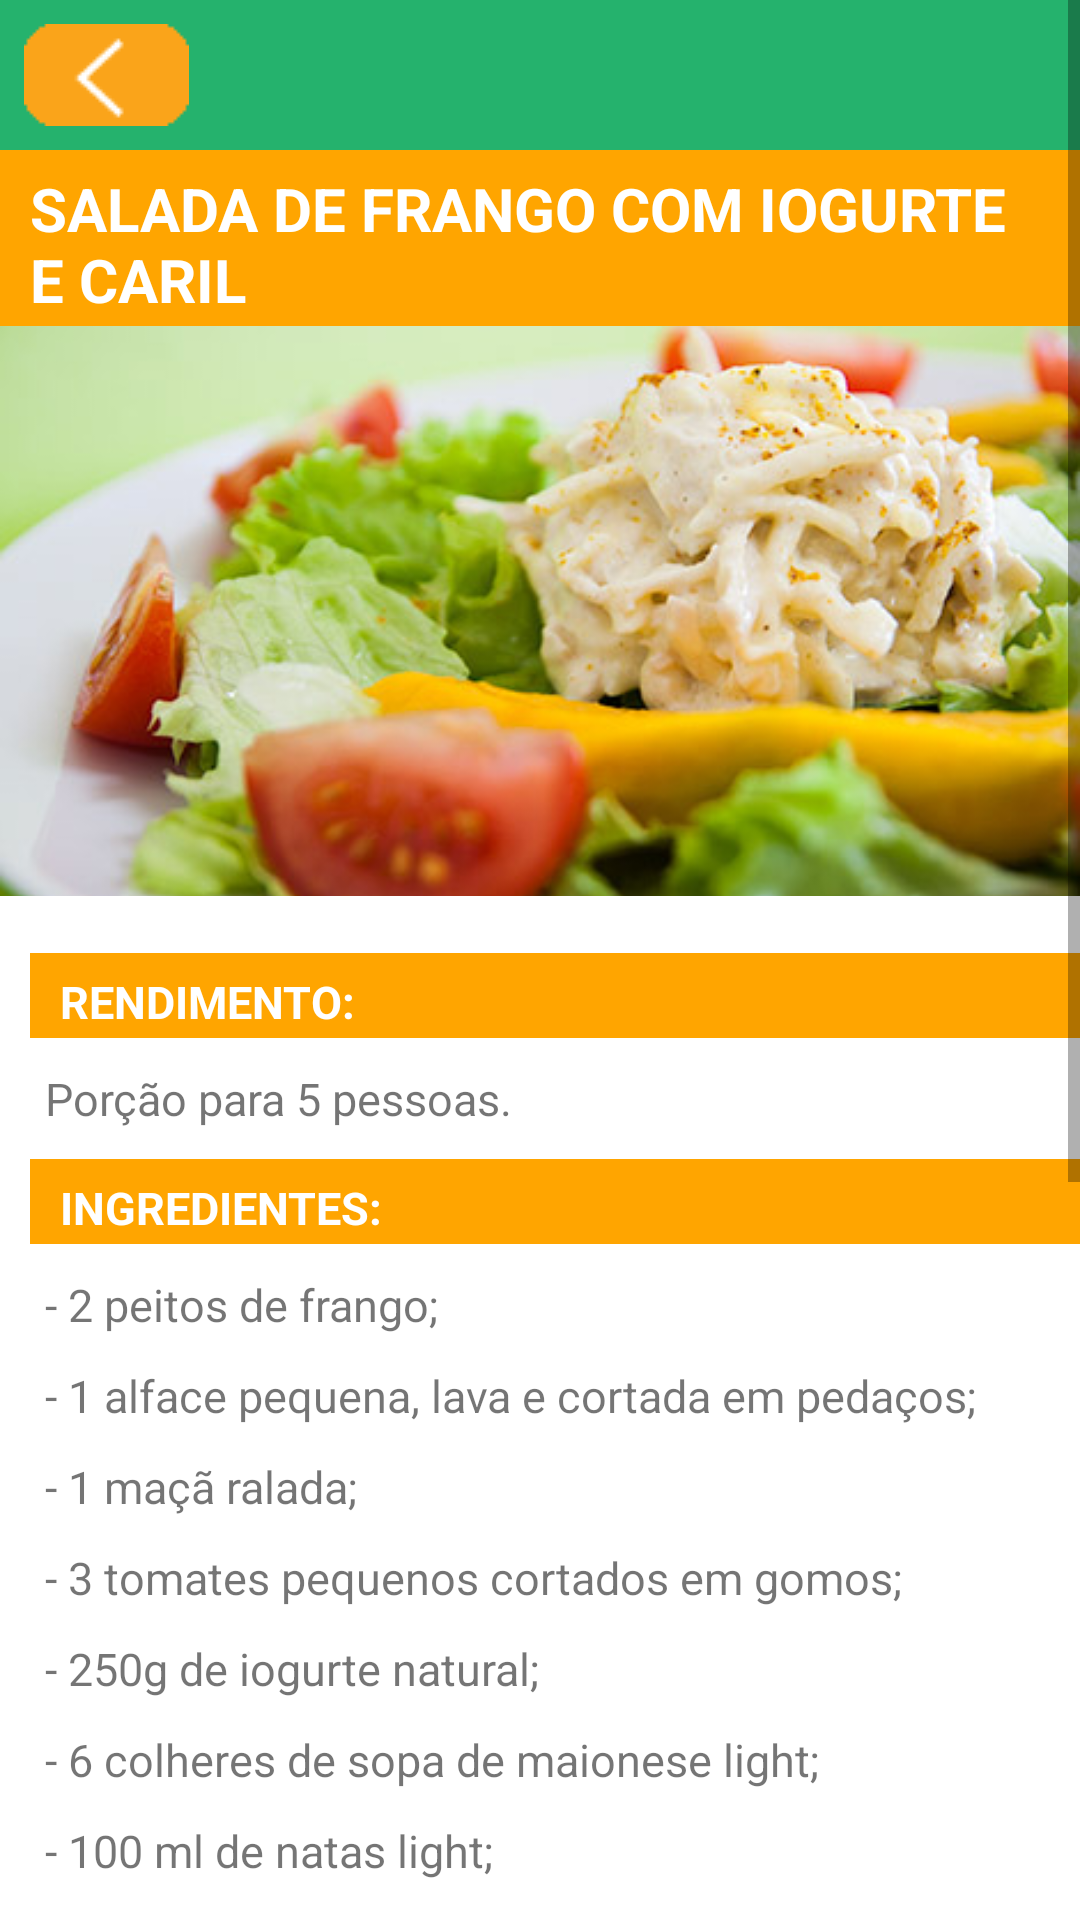

Named icons in this screenshot (1080×1920) and their centers, point (x, y):
return: point (106, 75)
